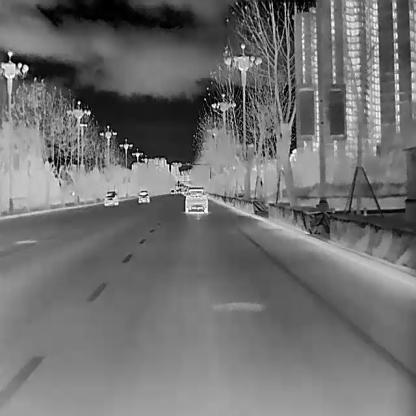car: (184, 186, 208, 213), (104, 190, 118, 206), (138, 190, 149, 203), (170, 190, 174, 194)
